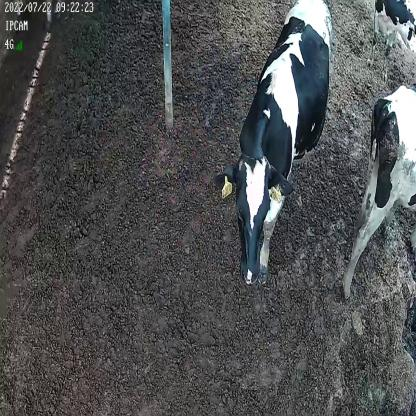cow: (212, 2, 333, 291)
